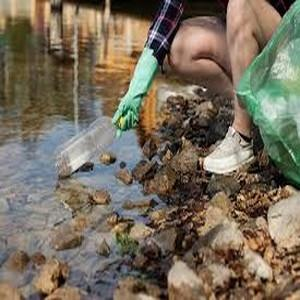Plastic: (54, 115, 120, 177)
